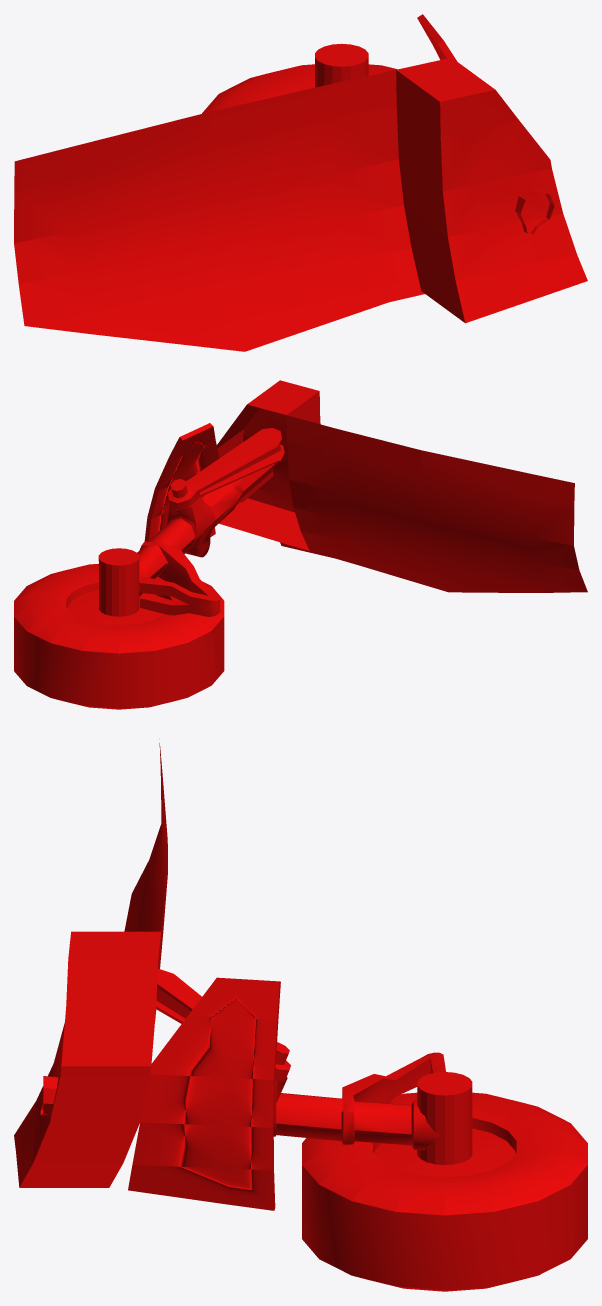
The model's file is rafale_highlight_13.fbx.
3 renders of one model, top to bottom at view 1: azimuth 30°, elevation 25°; view 2: azimuth 150°, elevation 25°; view 3: azimuth 270°, elevation 25°, orthographic. The views are drawn at different scales.
Parts seen in each view (by area): view 1: rafale_highlight_13; view 2: rafale_highlight_13; view 3: rafale_highlight_13.
Part boxes in pixels (bbox=[...]): rafale_highlight_13: bbox=[14, 14, 587, 351]; rafale_highlight_13: bbox=[14, 380, 587, 709]; rafale_highlight_13: bbox=[14, 743, 587, 1291].
Size of the model in its own units: 75.51 by 32.05 by 61.81.
